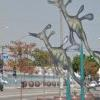Statue: (23, 7, 100, 93)
